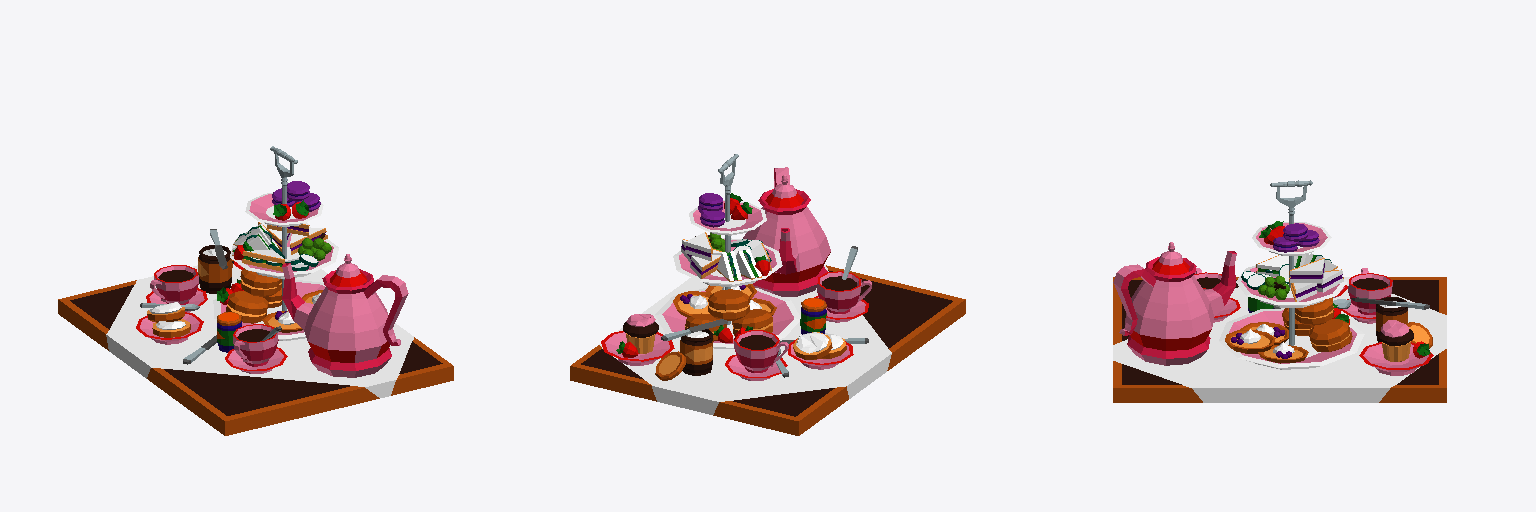
The picture shows the model from 3 angles: view 1: azimuth 30°, elevation 25°; view 2: azimuth 150°, elevation 25°; view 3: azimuth 270°, elevation 25°; orthographic projection.
Visible parts, largest first — view 1: group[number redacted]; view 2: group[number redacted], group[number redacted]; view 3: group[number redacted], group[number redacted].
Boxes of the visible parts, x1,y1,x2,y2 form: group[number redacted]: [58, 146, 453, 435]; group[number redacted]: [570, 154, 965, 435]; group[number redacted]: [673, 291, 709, 317]; group[number redacted]: [1113, 180, 1446, 402]; group[number redacted]: [1258, 342, 1308, 363].
Bounding box in the file's own units: 2.26 × 1.73 × 2.86.